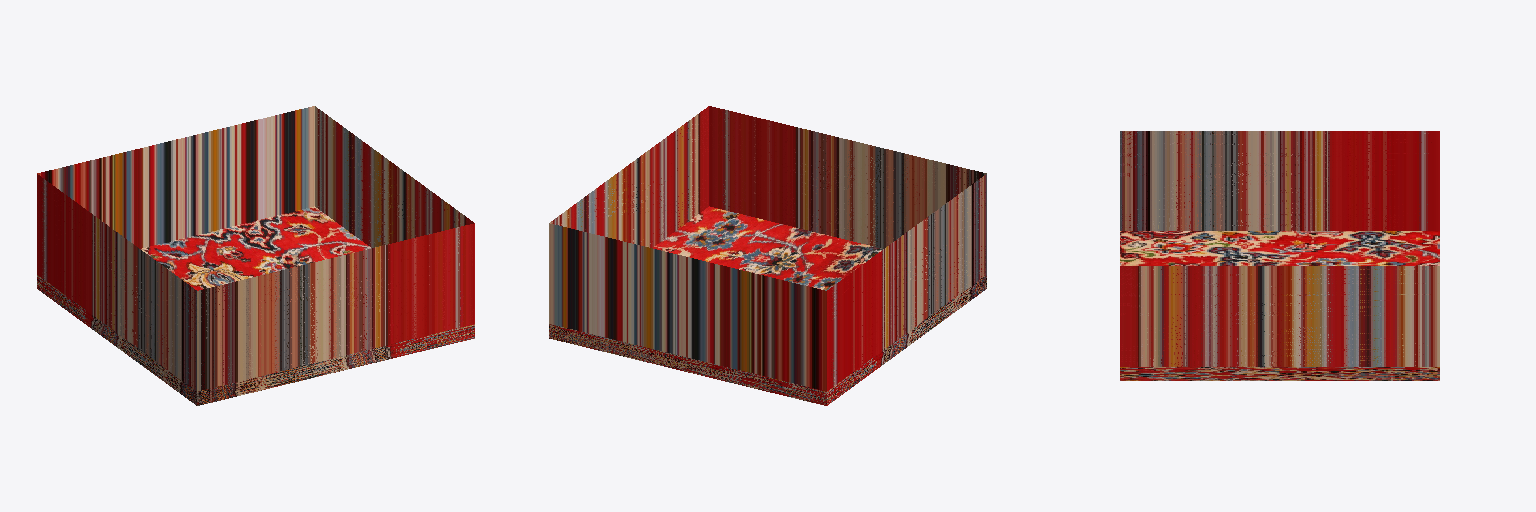
3 renders of one model, left to right at view 1: azimuth 30°, elevation 25°; view 2: azimuth 150°, elevation 25°; view 3: azimuth 270°, elevation 25°, orthographic.
Visible parts, largest first — view 1: Cube; view 2: Cube; view 3: Cube.
Boxes of the visible parts, <box> form: Cube: <box>37,106,474,405</box>; Cube: <box>549,106,986,405</box>; Cube: <box>1120,131,1439,380</box>.
Size of the model in its own units: 21.29 by 8.45 by 21.29.
Materials: 1 (1 with a texture image).